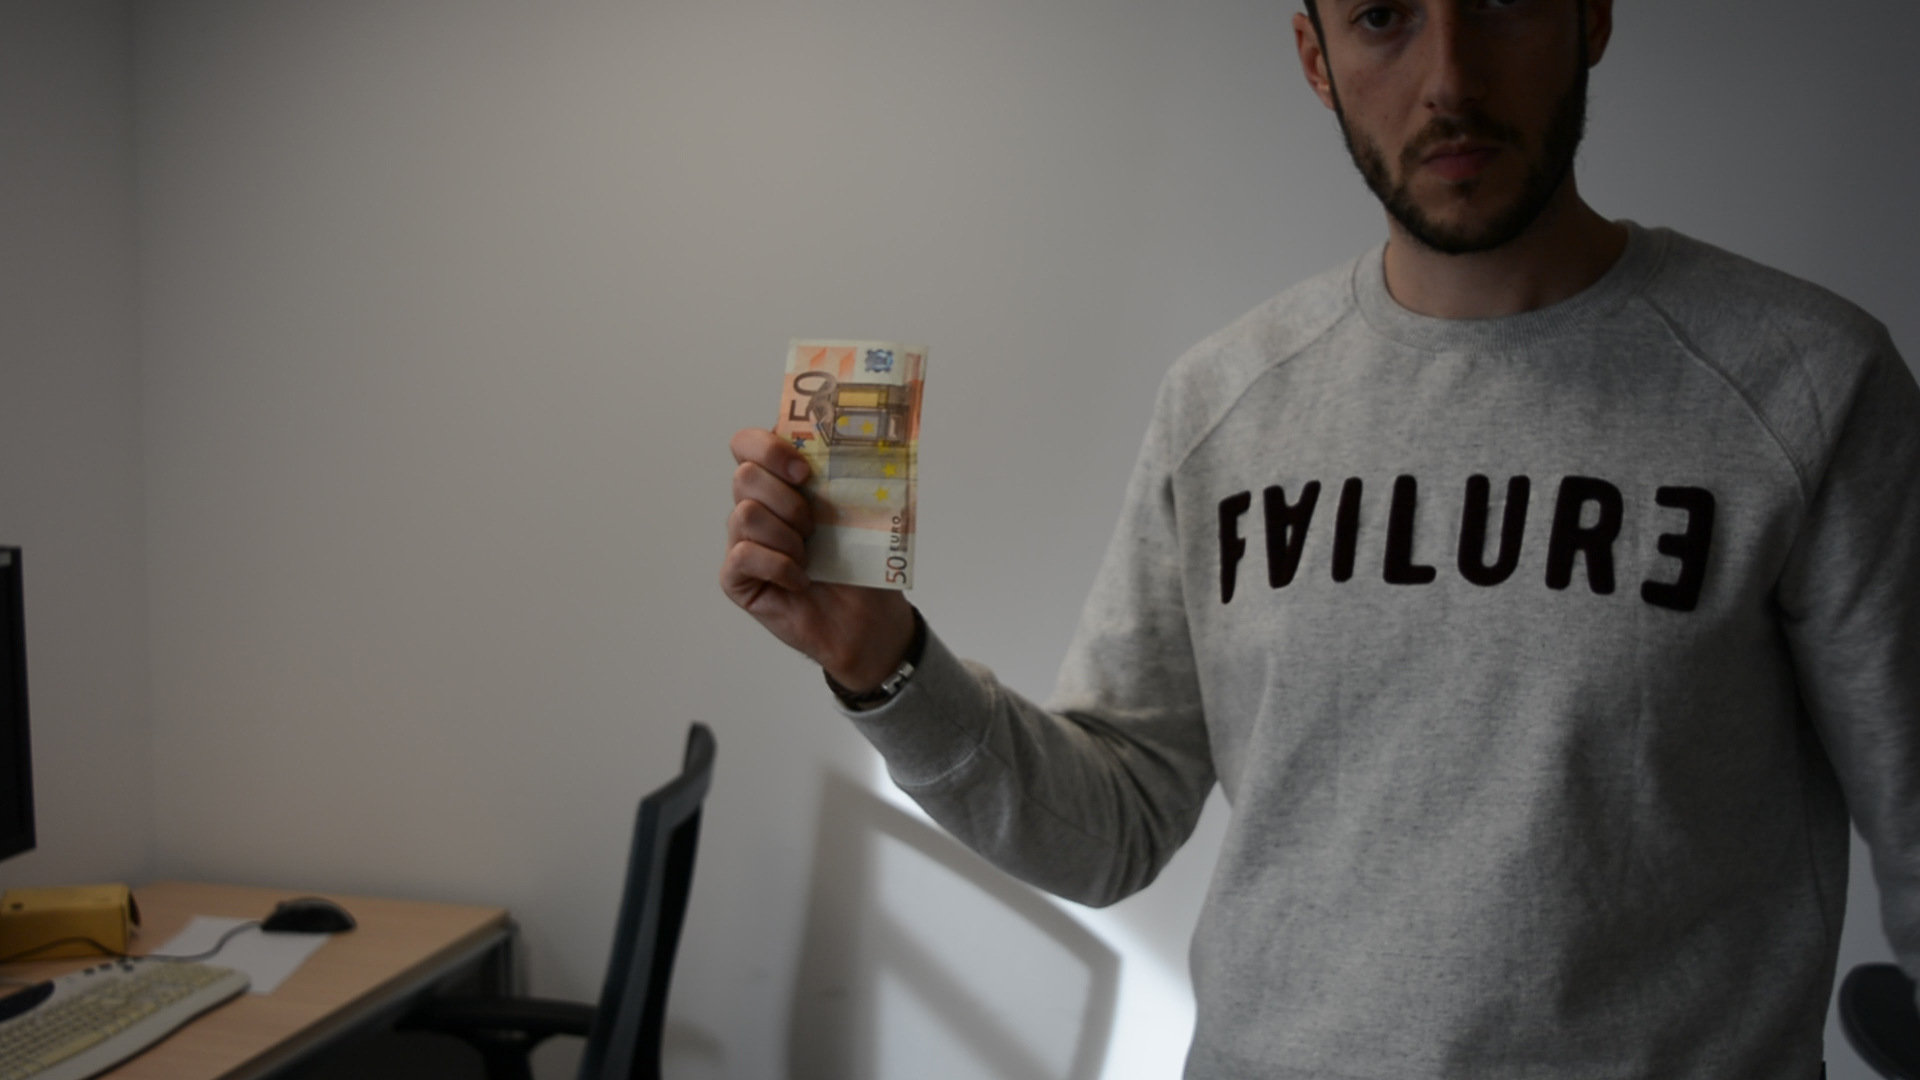billete: (771, 335, 934, 593)
